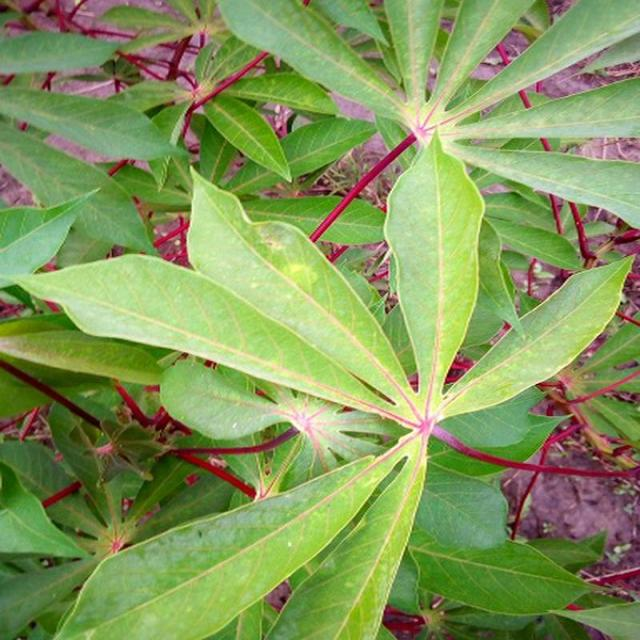cassava leaf: (1, 1, 638, 638), (382, 129, 484, 397)
